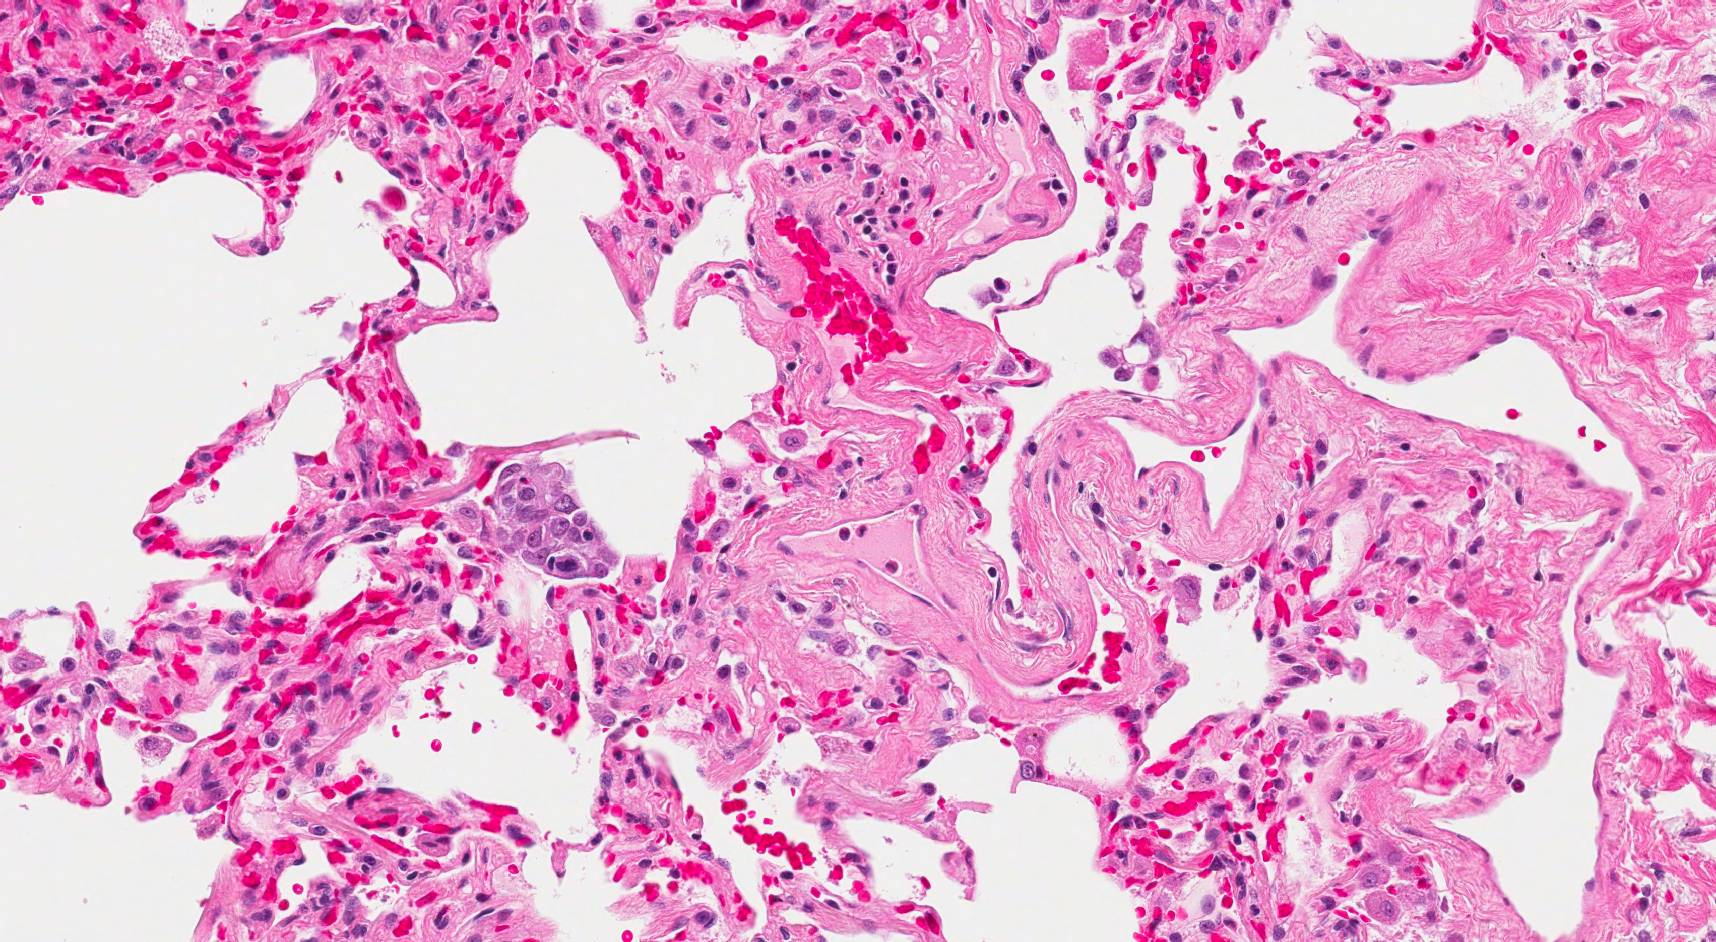stas: (494, 458, 618, 582), (1097, 315, 1167, 387)
